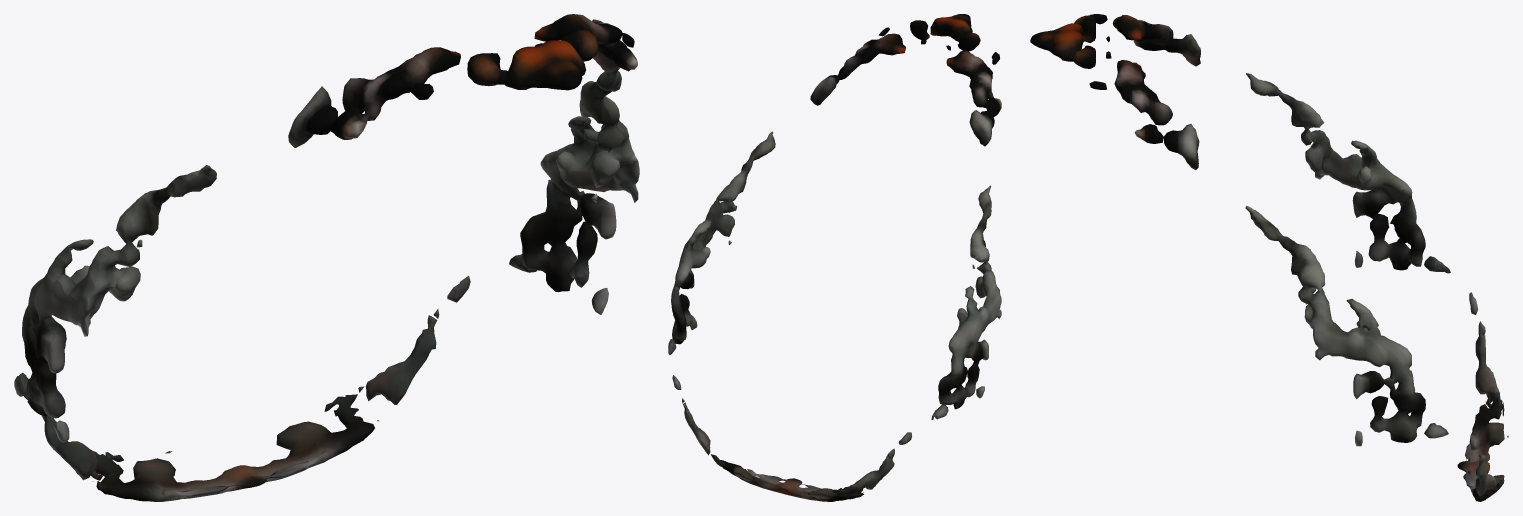
File: White_Necklace.FBX
3 renders of one model, left to right at view 1: azimuth 30°, elevation 25°; view 2: azimuth 150°, elevation 25°; view 3: azimuth 270°, elevation 25°, orthographic. The views are drawn at different scales.
Parts seen in each view (by area): view 1: plyFile; view 2: plyFile; view 3: plyFile.
Part boxes in pixels (x1=…): plyFile: x1=14, y1=14, x2=639, y2=501; plyFile: x1=668, y1=14, x2=1001, y2=501; plyFile: x1=1030, y1=14, x2=1508, y2=501.
Bounding box in the file's own units: 149 × 166 × 162.
